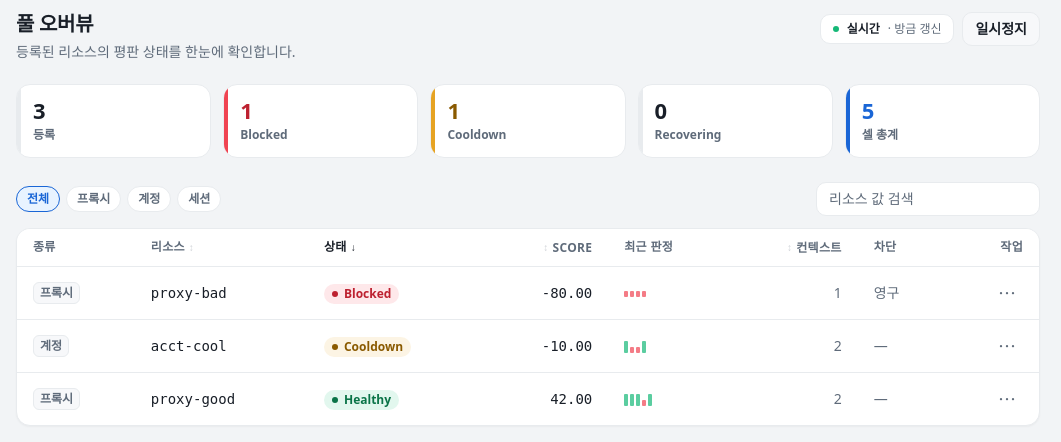
Test: 풀 오버뷰 화면 (integration + MSW) › 라이브 인디케이터를 일시정지하면 상태 문구와 버튼이 바뀐다
The width and height of the screenshot is (1061, 442).
Expected: the link "proxy-bad" is shown, [151,285,227,301]
Expected: the text "실시간" is shown, [847,21,880,37]
Click the button "일시정지" at (1001, 29), box [962,12,1040,46]
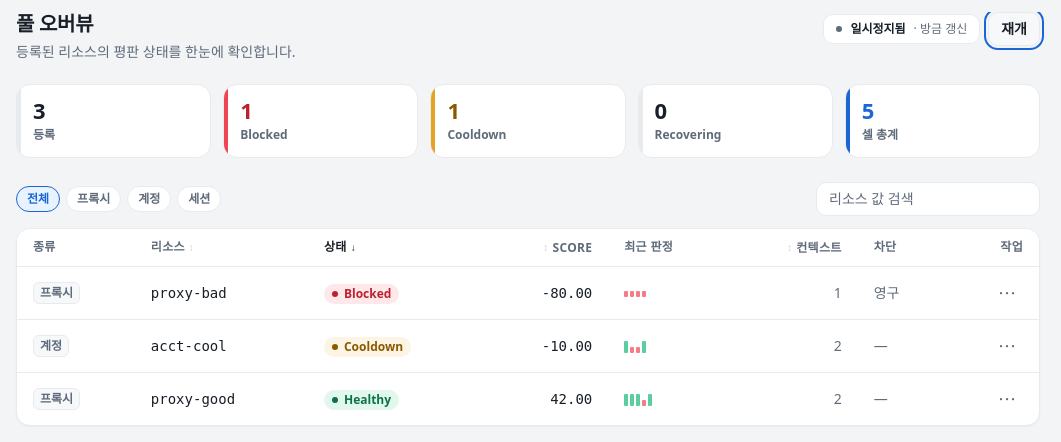
Expected: the text "일시정지됨" is shown, [850,21,906,37]
Expected: the button "재개" is shown, [988,12,1040,46]
